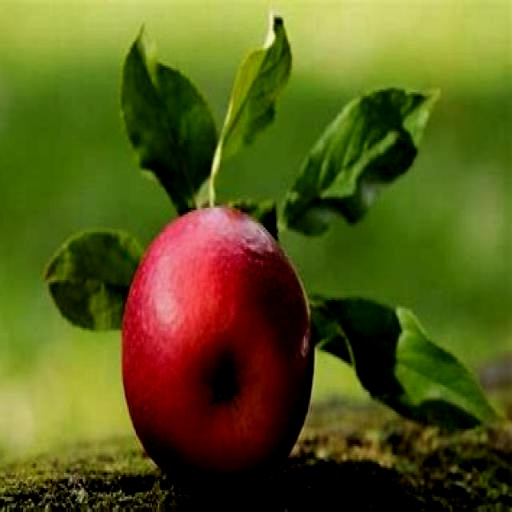fruit: (122, 208, 312, 491)
